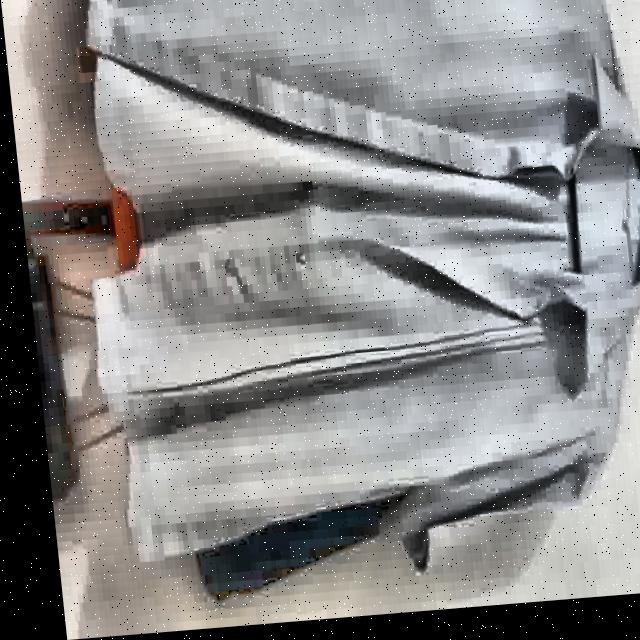clothes: (58, 0, 640, 600)
